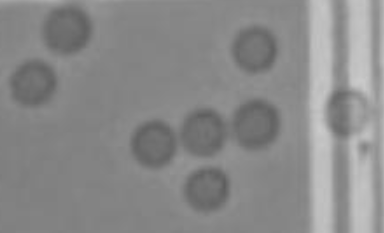cell: (35, 1, 96, 61), (123, 112, 183, 171), (3, 53, 62, 112), (227, 95, 284, 153), (226, 20, 283, 78), (178, 162, 234, 218), (176, 101, 229, 160), (318, 86, 373, 142)
